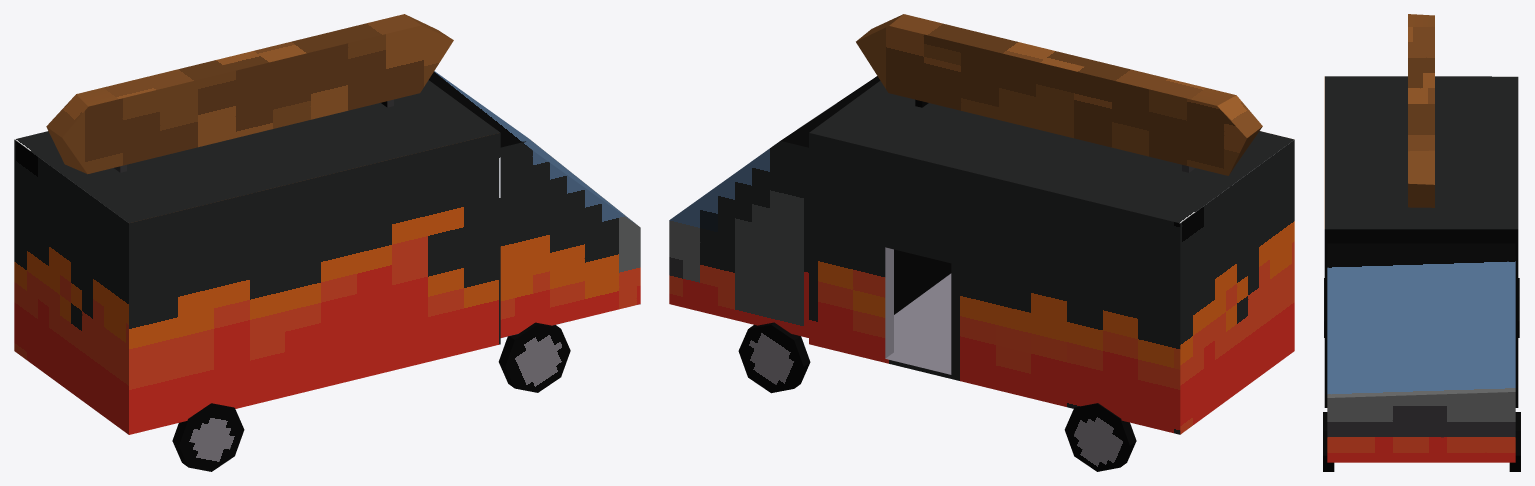
File: foodtruck.glb
3 views of the same model, side by side, from view 1: azimuth 30°, elevation 25°; view 2: azimuth 150°, elevation 25°; view 3: azimuth 270°, elevation 25° (orthographic). The views are drawn at different scales.
Parts seen in each view (by area): view 1: Cube, Cube.004, Cube.001, Cylinder, Cylinder.001; view 2: Cube, Cube.004, Cube.001, Cylinder.003, Cylinder.002; view 3: Cube.001, Cube, Cube.004, Cylinder.003, Cylinder.
Part boxes in pixels (x1,y1,x2,y2): Cube: (14, 80, 500, 434); Cube.004: (46, 14, 453, 174); Cube.001: (429, 71, 640, 337); Cylinder: (498, 322, 570, 392); Cylinder.001: (172, 403, 244, 471); Cube: (809, 80, 1294, 434); Cube.004: (856, 14, 1262, 175); Cube.001: (669, 76, 951, 337); Cylinder.003: (738, 322, 810, 393); Cylinder.002: (1064, 403, 1136, 471); Cube.001: (1327, 243, 1515, 462); Cube: (1324, 76, 1518, 407); Cube.004: (1408, 14, 1434, 207); Cylinder.003: (1509, 412, 1520, 471); Cylinder: (1323, 412, 1334, 471).
Bounding box in the file's own units: 16.47 × 10.29 × 6.31.
1 material, 1 textured.
